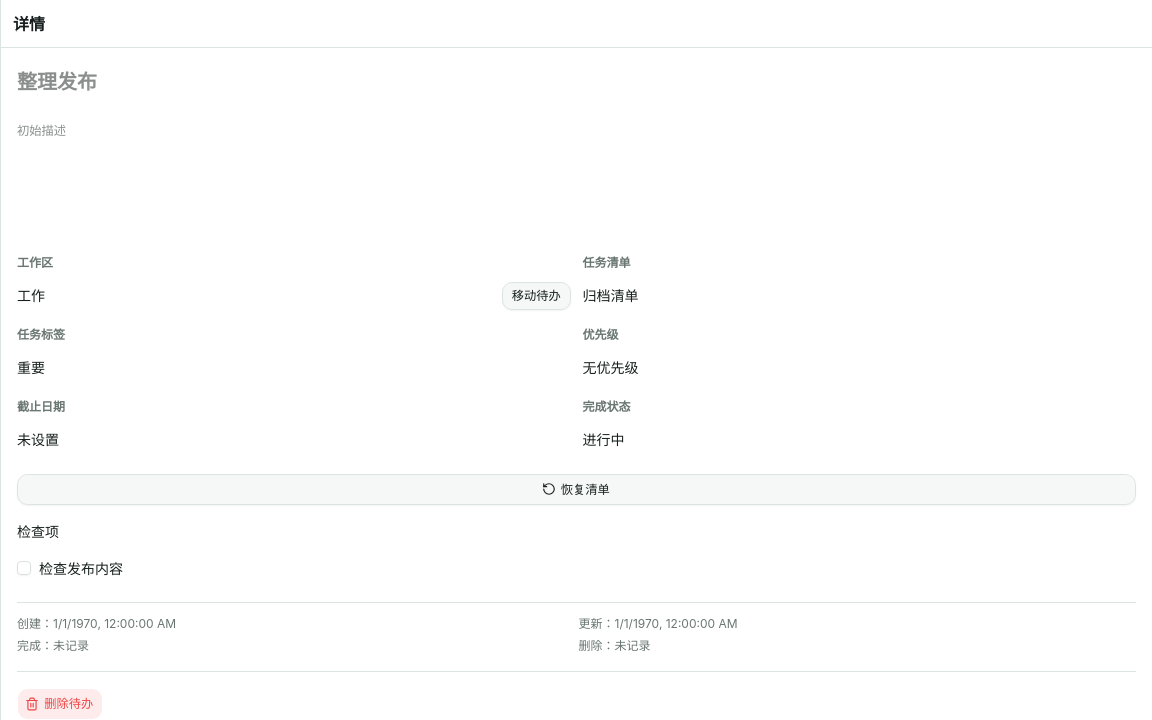
Scenario: TaskDetailPane › 恢复归档清单刷新 detail 并解除只读
The width and height of the screenshot is (1152, 720).
Expected: the field named "标题" is disabled, [17,64,1136,102]
Click the button "恢复清单" at point(576, 489), box [17,474,1136,505]
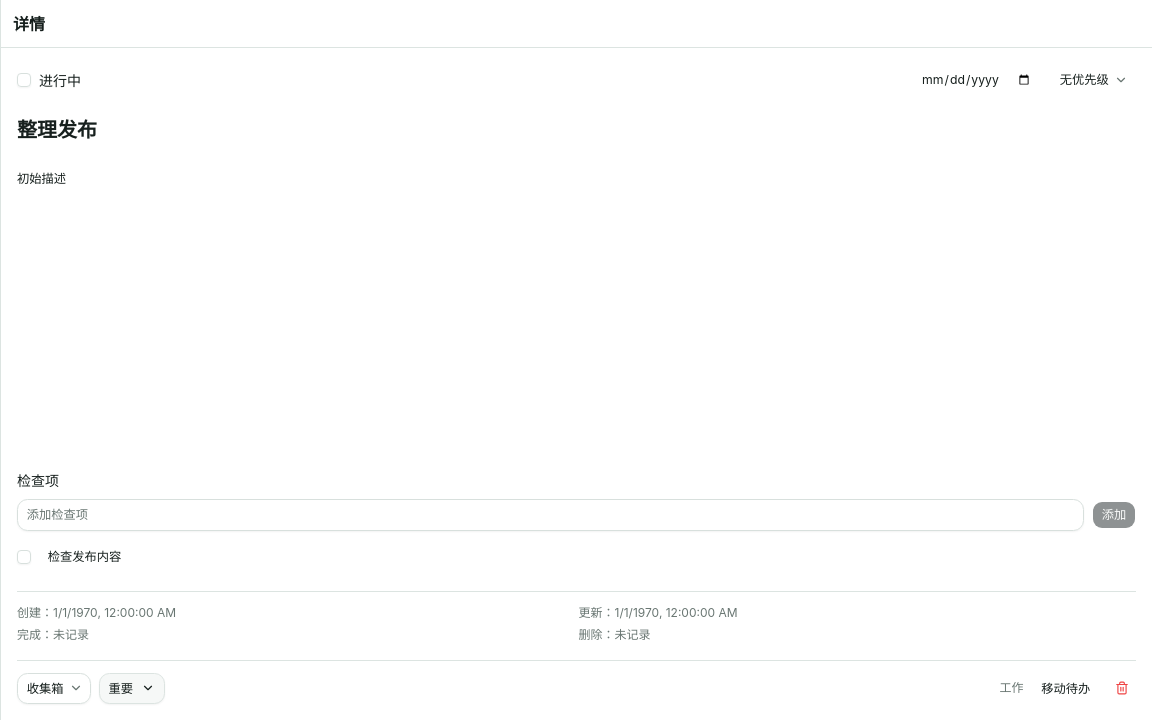
Now the field named "标题" is enabled, box [17,112,1136,150]
Now the button "恢复清单" is gone
